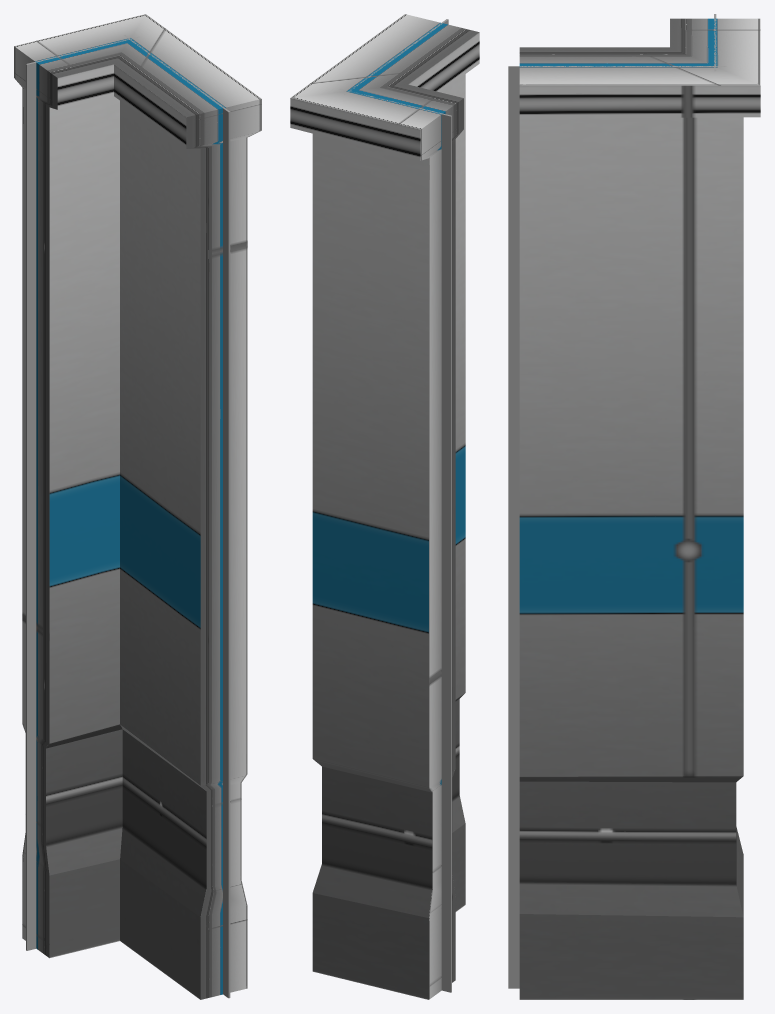
File: CRL_SM_SU_BB.fbx
The picture shows the model from 3 angles, left to right: view 1: azimuth 30°, elevation 25°; view 2: azimuth 150°, elevation 25°; view 3: azimuth 270°, elevation 25°; orthographic projection. The views are drawn at different scales.
Visible parts, largest first — view 1: CRL_SM_SU_BB; view 2: CRL_SM_SU_BB; view 3: CRL_SM_SU_BB.
Boxes of the visible parts, x1,y1,x2,y2 form: CRL_SM_SU_BB: (14,14,261,999); CRL_SM_SU_BB: (290,14,479,999); CRL_SM_SU_BB: (508,14,760,999).
Size of the model in its own units: 0.751 by 4.5 by 1.12.
